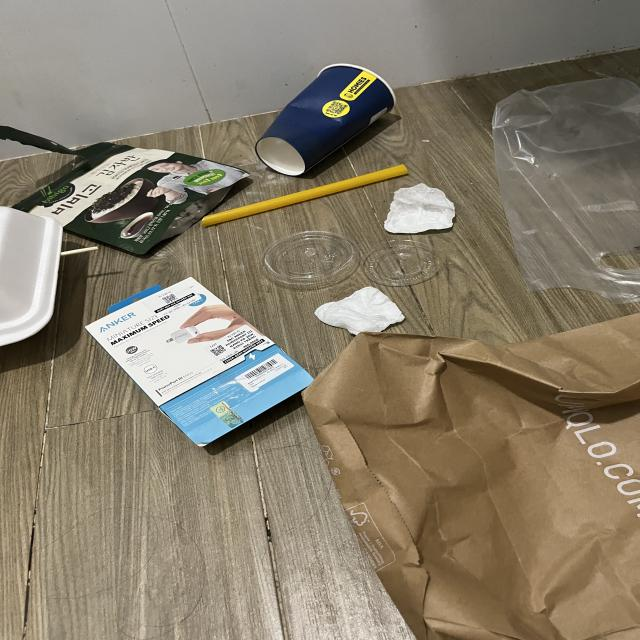bag: (301, 308, 640, 639), (493, 76, 640, 304)
cardboard box: (82, 277, 314, 448)
drinking straw: (201, 163, 409, 227)
foam box: (0, 205, 62, 347)
lid: (263, 231, 359, 287), (360, 240, 442, 288)
napkin: (313, 287, 408, 335), (383, 181, 456, 235)
plastic glass: (254, 62, 397, 176)
snack package: (0, 125, 253, 256)
